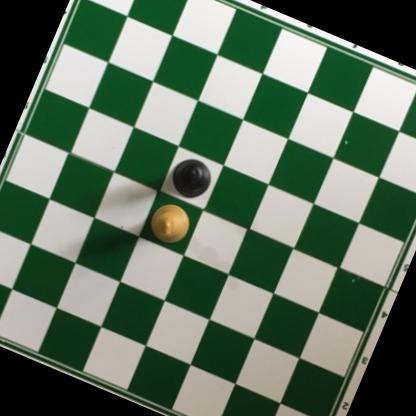black-king: (168, 151, 217, 202)
white-king: (143, 196, 198, 251)
